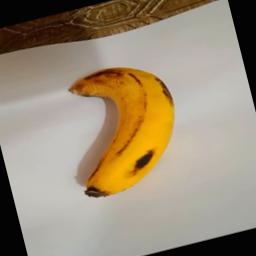Banana Unripe: (52, 48, 194, 204)
